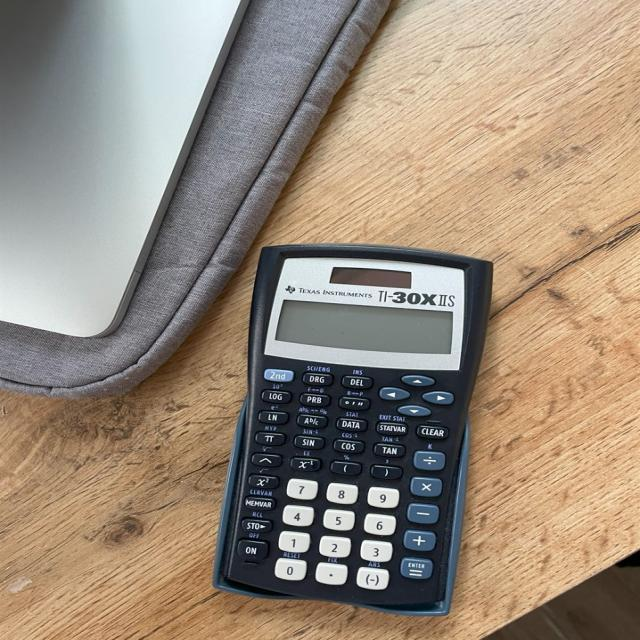Calculator: (212, 243, 495, 618)
